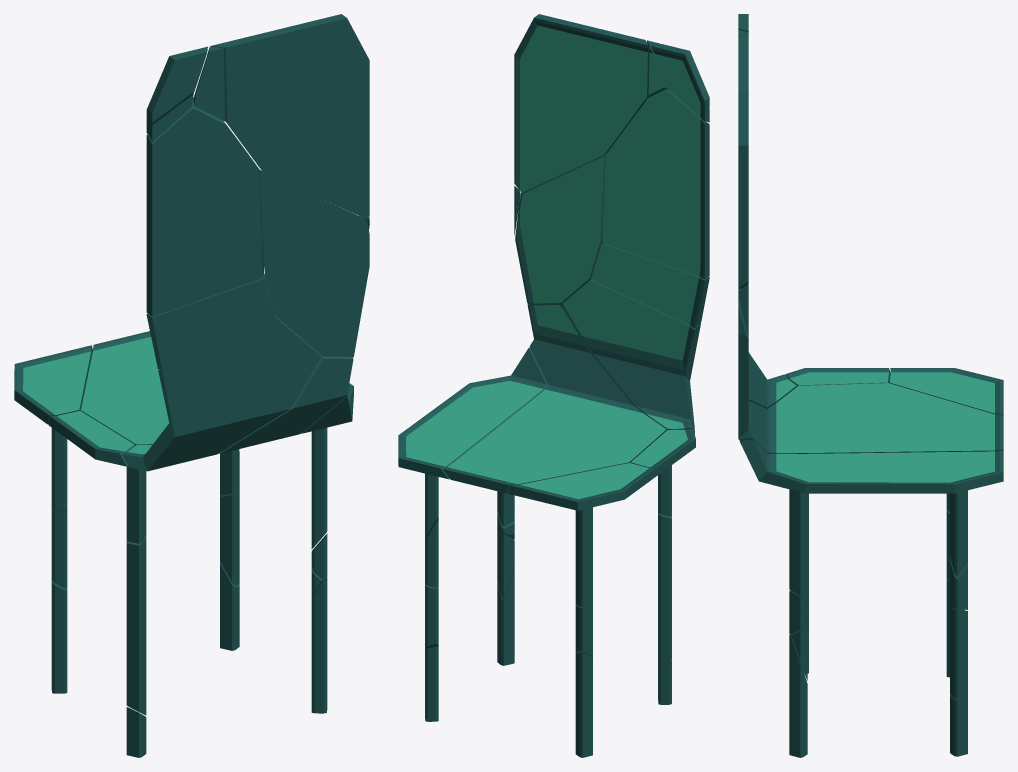
File: SillaCocina_Roto.fbx
3 renders of one model, left to right at view 1: azimuth 30°, elevation 25°; view 2: azimuth 150°, elevation 25°; view 3: azimuth 270°, elevation 25°, orthographic. The views are drawn at different scales.
Parts seen in each view (by area): view 1: SillaCocina_cell.012, SillaCocina_cell.010, SillaCocina_cell.002, SillaCocina_cell.001, SillaCocina_cell.004, SillaCocina_cell.013, SillaCocina.001_cell.012, SillaCocina_cell, SillaCocina_cell.006, SillaCocina_cell.011, SillaCocina.001_cell.003, SillaCocina.001_cell.006 (+9 smaller); view 2: SillaCocina_cell.004, SillaCocina_cell.012, SillaCocina_cell.010, SillaCocina_cell.002, SillaCocina_cell.001, SillaCocina_cell.014, SillaCocina_cell.013, SillaCocina_cell, SillaCocina.001_cell.012, SillaCocina.001_cell.003, SillaCocina_cell.006, SillaCocina.001_cell.014 (+9 smaller); view 3: SillaCocina_cell.004, SillaCocina_cell.014, SillaCocina_cell, SillaCocina_cell.012, SillaCocina.001_cell.001, SillaCocina.001_cell.007, SillaCocina.001_cell.006, SillaCocina_cell.011, SillaCocina.001_cell.004, SillaCocina_cell.002, SillaCocina.001_cell.009, SillaCocina_cell.001 (+3 smaller).
Part boxes in pixels (box(x1,y1,x2,y2)): SillaCocina_cell.012: box(211, 14, 369, 217); SillaCocina_cell.010: box(146, 97, 264, 316); SillaCocina_cell.002: box(122, 316, 320, 471); SillaCocina_cell.001: box(260, 170, 369, 356); SillaCocina_cell.004: box(81, 331, 353, 453); SillaCocina_cell.013: box(146, 273, 276, 369); SillaCocina.001_cell.012: box(51, 512, 146, 715); SillaCocina_cell: box(14, 345, 92, 424); SillaCocina_cell.006: box(146, 46, 207, 133); SillaCocina_cell.011: box(48, 411, 135, 466); SillaCocina.001_cell.003: box(51, 428, 239, 513); SillaCocina.001_cell.006: box(311, 581, 327, 713); SillaCocina_cell.004: box(442, 304, 666, 493); SillaCocina_cell.012: box(514, 14, 648, 192); SillaCocina_cell.010: box(602, 89, 709, 279); SillaCocina_cell.002: box(562, 279, 700, 432); SillaCocina_cell.001: box(515, 152, 607, 306); SillaCocina_cell.014: box(398, 347, 547, 479); SillaCocina_cell.013: box(591, 243, 709, 328); SillaCocina_cell: box(508, 463, 655, 510); SillaCocina.001_cell.012: box(575, 509, 671, 669); SillaCocina.001_cell.003: box(425, 507, 592, 606); SillaCocina_cell.006: box(651, 44, 709, 121); SillaCocina.001_cell.014: box(575, 652, 592, 757); SillaCocina_cell.004: box(738, 383, 1003, 454); SillaCocina_cell.014: box(739, 439, 1003, 493); SillaCocina_cell: box(890, 368, 1003, 415); SillaCocina_cell.012: box(738, 33, 748, 289); SillaCocina.001_cell.001: box(791, 608, 967, 698); SillaCocina.001_cell.007: box(789, 489, 807, 606); SillaCocina.001_cell.006: box(789, 634, 807, 757); SillaCocina_cell.011: box(785, 368, 890, 387); SillaCocina.001_cell.004: box(950, 490, 967, 576); SillaCocina_cell.002: box(748, 352, 796, 408); SillaCocina.001_cell.009: box(950, 678, 967, 756); SillaCocina_cell.001: box(738, 288, 748, 407).
Bounding box in the file's own units: 35.1 × 93.03 × 33.88.
